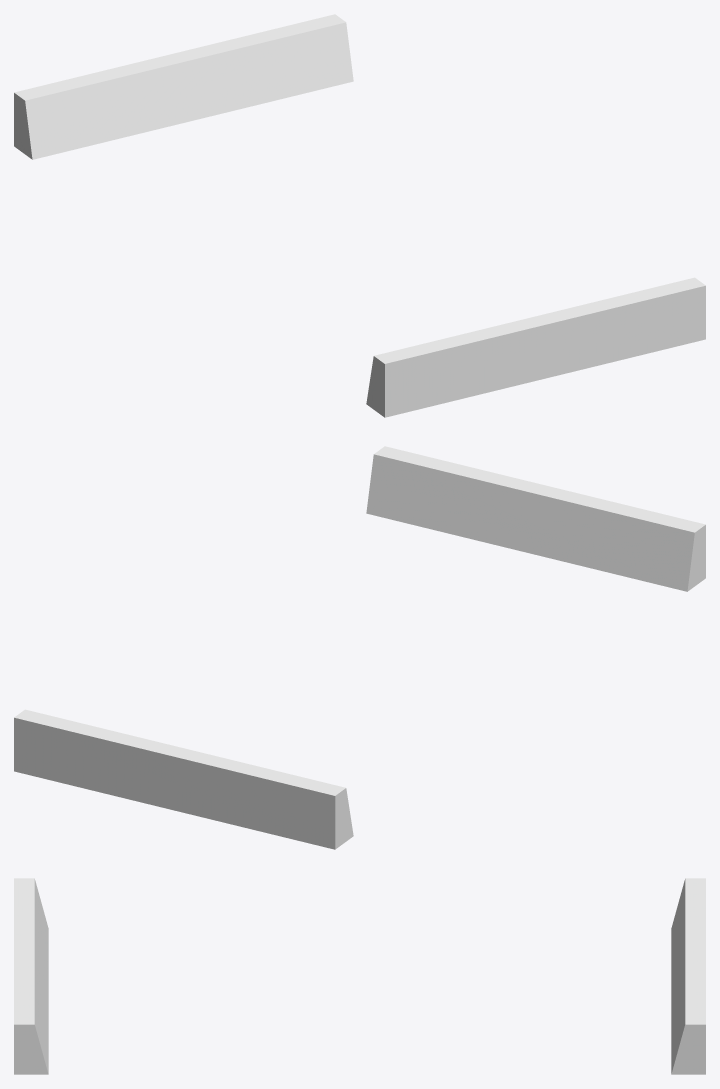
Rendered from road-straight-barrier-half.glb.
The picture shows the model from 3 angles, top to bottom: view 1: azimuth 30°, elevation 25°; view 2: azimuth 150°, elevation 25°; view 3: azimuth 270°, elevation 25°; orthographic projection. The views are drawn at different scales.
Visible parts, largest first — view 1: road-straight-barrier-half; view 2: road-straight-barrier-half; view 3: road-straight-barrier-half.
Part boxes in pixels (left/top/right/bottom): road-straight-barrier-half: left=14, top=14, right=705, bottom=417; road-straight-barrier-half: left=14, top=446, right=705, bottom=849; road-straight-barrier-half: left=14, top=878, right=705, bottom=1074.
Size of the model in its own units: 0.5 by 0.08 by 1.
Materials: 1 (1 with a texture image).
